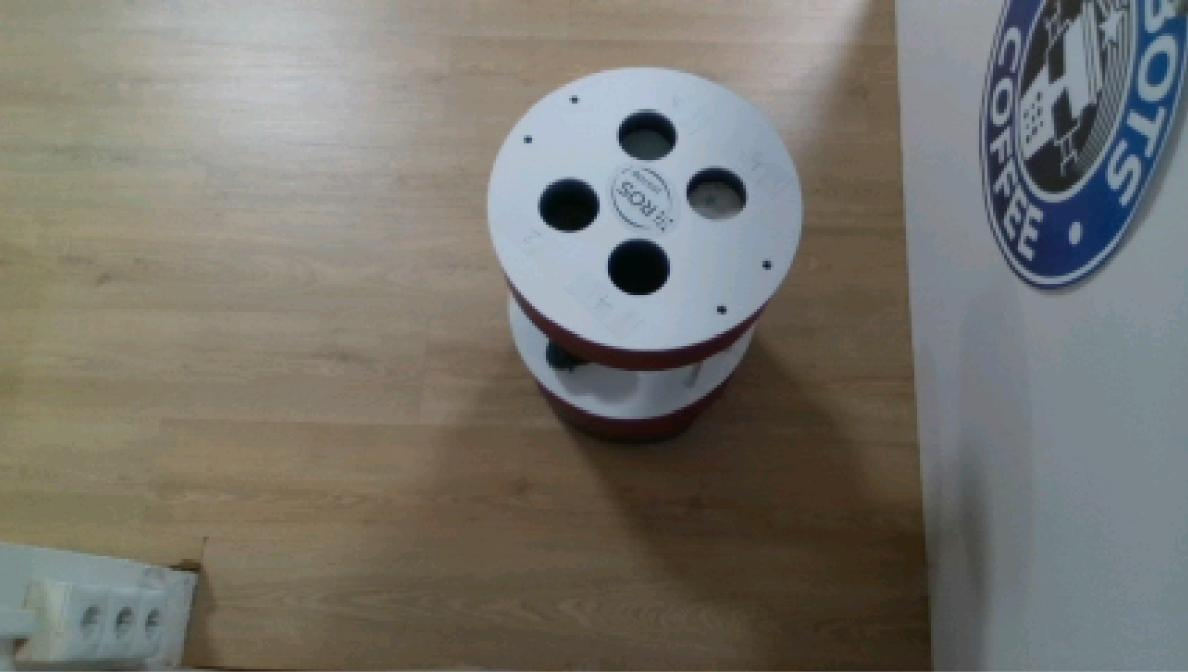hole: (607, 236, 671, 303), (538, 171, 603, 234), (684, 163, 751, 224), (614, 104, 680, 163)
